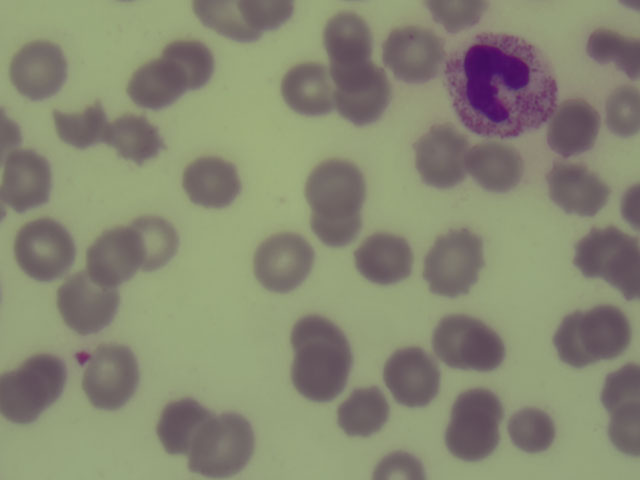Platelets: (70, 343, 93, 367)
RBC: (427, 236, 481, 290), (547, 98, 601, 152), (439, 312, 493, 366), (357, 229, 411, 283), (504, 400, 558, 454), (450, 396, 504, 450), (470, 140, 524, 194), (387, 350, 441, 404), (335, 382, 389, 436), (197, 415, 251, 469), (157, 398, 211, 452), (387, 26, 441, 80), (416, 129, 470, 183), (259, 234, 313, 288), (85, 351, 139, 405), (123, 214, 177, 268), (182, 154, 236, 208), (88, 229, 142, 283), (63, 277, 117, 331), (17, 225, 71, 279), (106, 111, 160, 165), (51, 96, 105, 150), (162, 37, 216, 91), (283, 63, 337, 117), (337, 67, 391, 121), (11, 43, 65, 97), (549, 161, 603, 215), (1, 152, 52, 207), (306, 160, 362, 207), (597, 360, 640, 418), (571, 224, 618, 277), (1, 367, 43, 426), (294, 353, 349, 398), (290, 313, 350, 354), (552, 307, 593, 367), (312, 198, 363, 245), (588, 28, 640, 74), (601, 84, 640, 143), (127, 63, 178, 108), (586, 303, 630, 355), (193, 1, 253, 35), (23, 351, 67, 397), (322, 13, 370, 55), (608, 241, 640, 302), (605, 401, 640, 456), (426, 1, 489, 29), (240, 1, 294, 32), (330, 47, 373, 85), (370, 451, 424, 480)
WBC: (444, 35, 549, 132)
